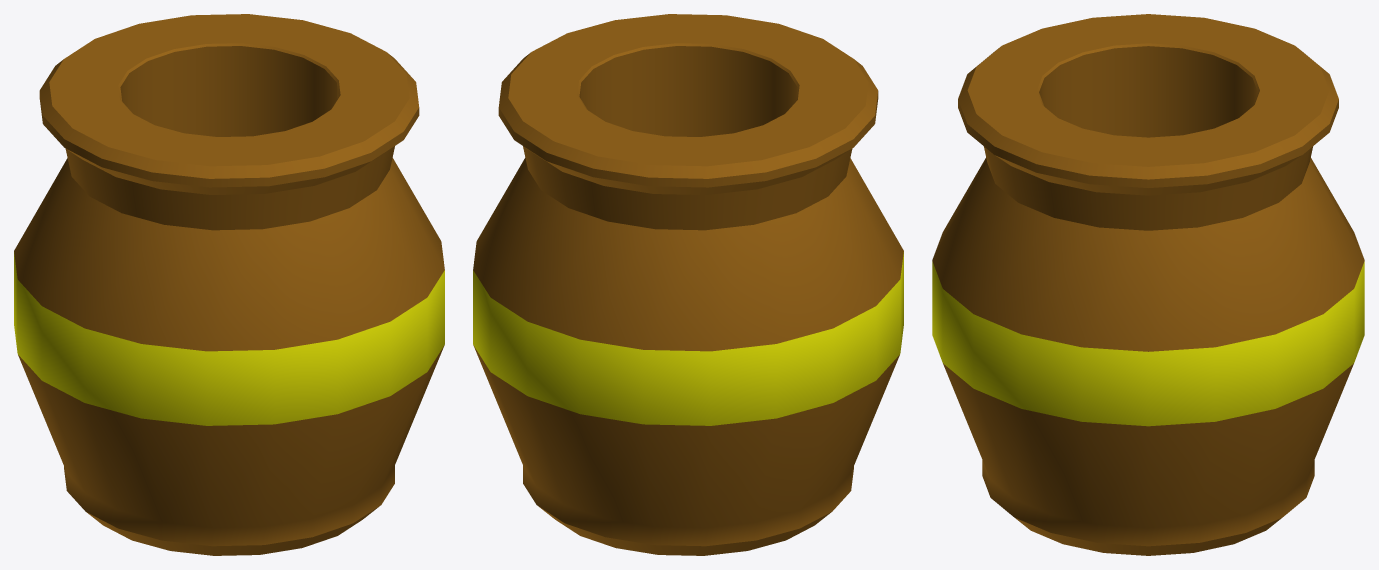
Rendered from honeypot.fbx.
3 views of the same model, side by side, from view 1: azimuth 30°, elevation 25°; view 2: azimuth 150°, elevation 25°; view 3: azimuth 270°, elevation 25° (orthographic).
Parts seen in each view (by area): view 1: pCylinder1; view 2: pCylinder1; view 3: pCylinder1.
Boxes of the visible parts, <box> form: pCylinder1: <box>14,14,444,555</box>; pCylinder1: <box>473,14,903,555</box>; pCylinder1: <box>932,14,1364,555</box>.
Bounding box in the file's own units: 0.0291 × 0.03 × 0.0291.
